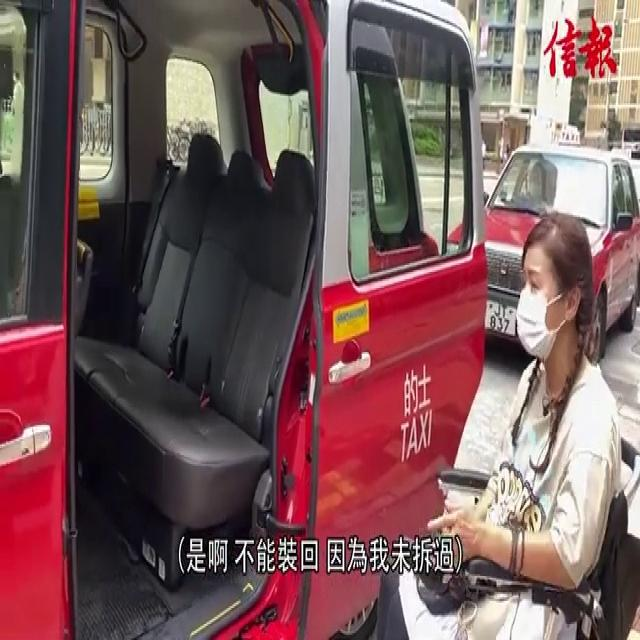wheelchairs: (403, 409, 640, 638)
